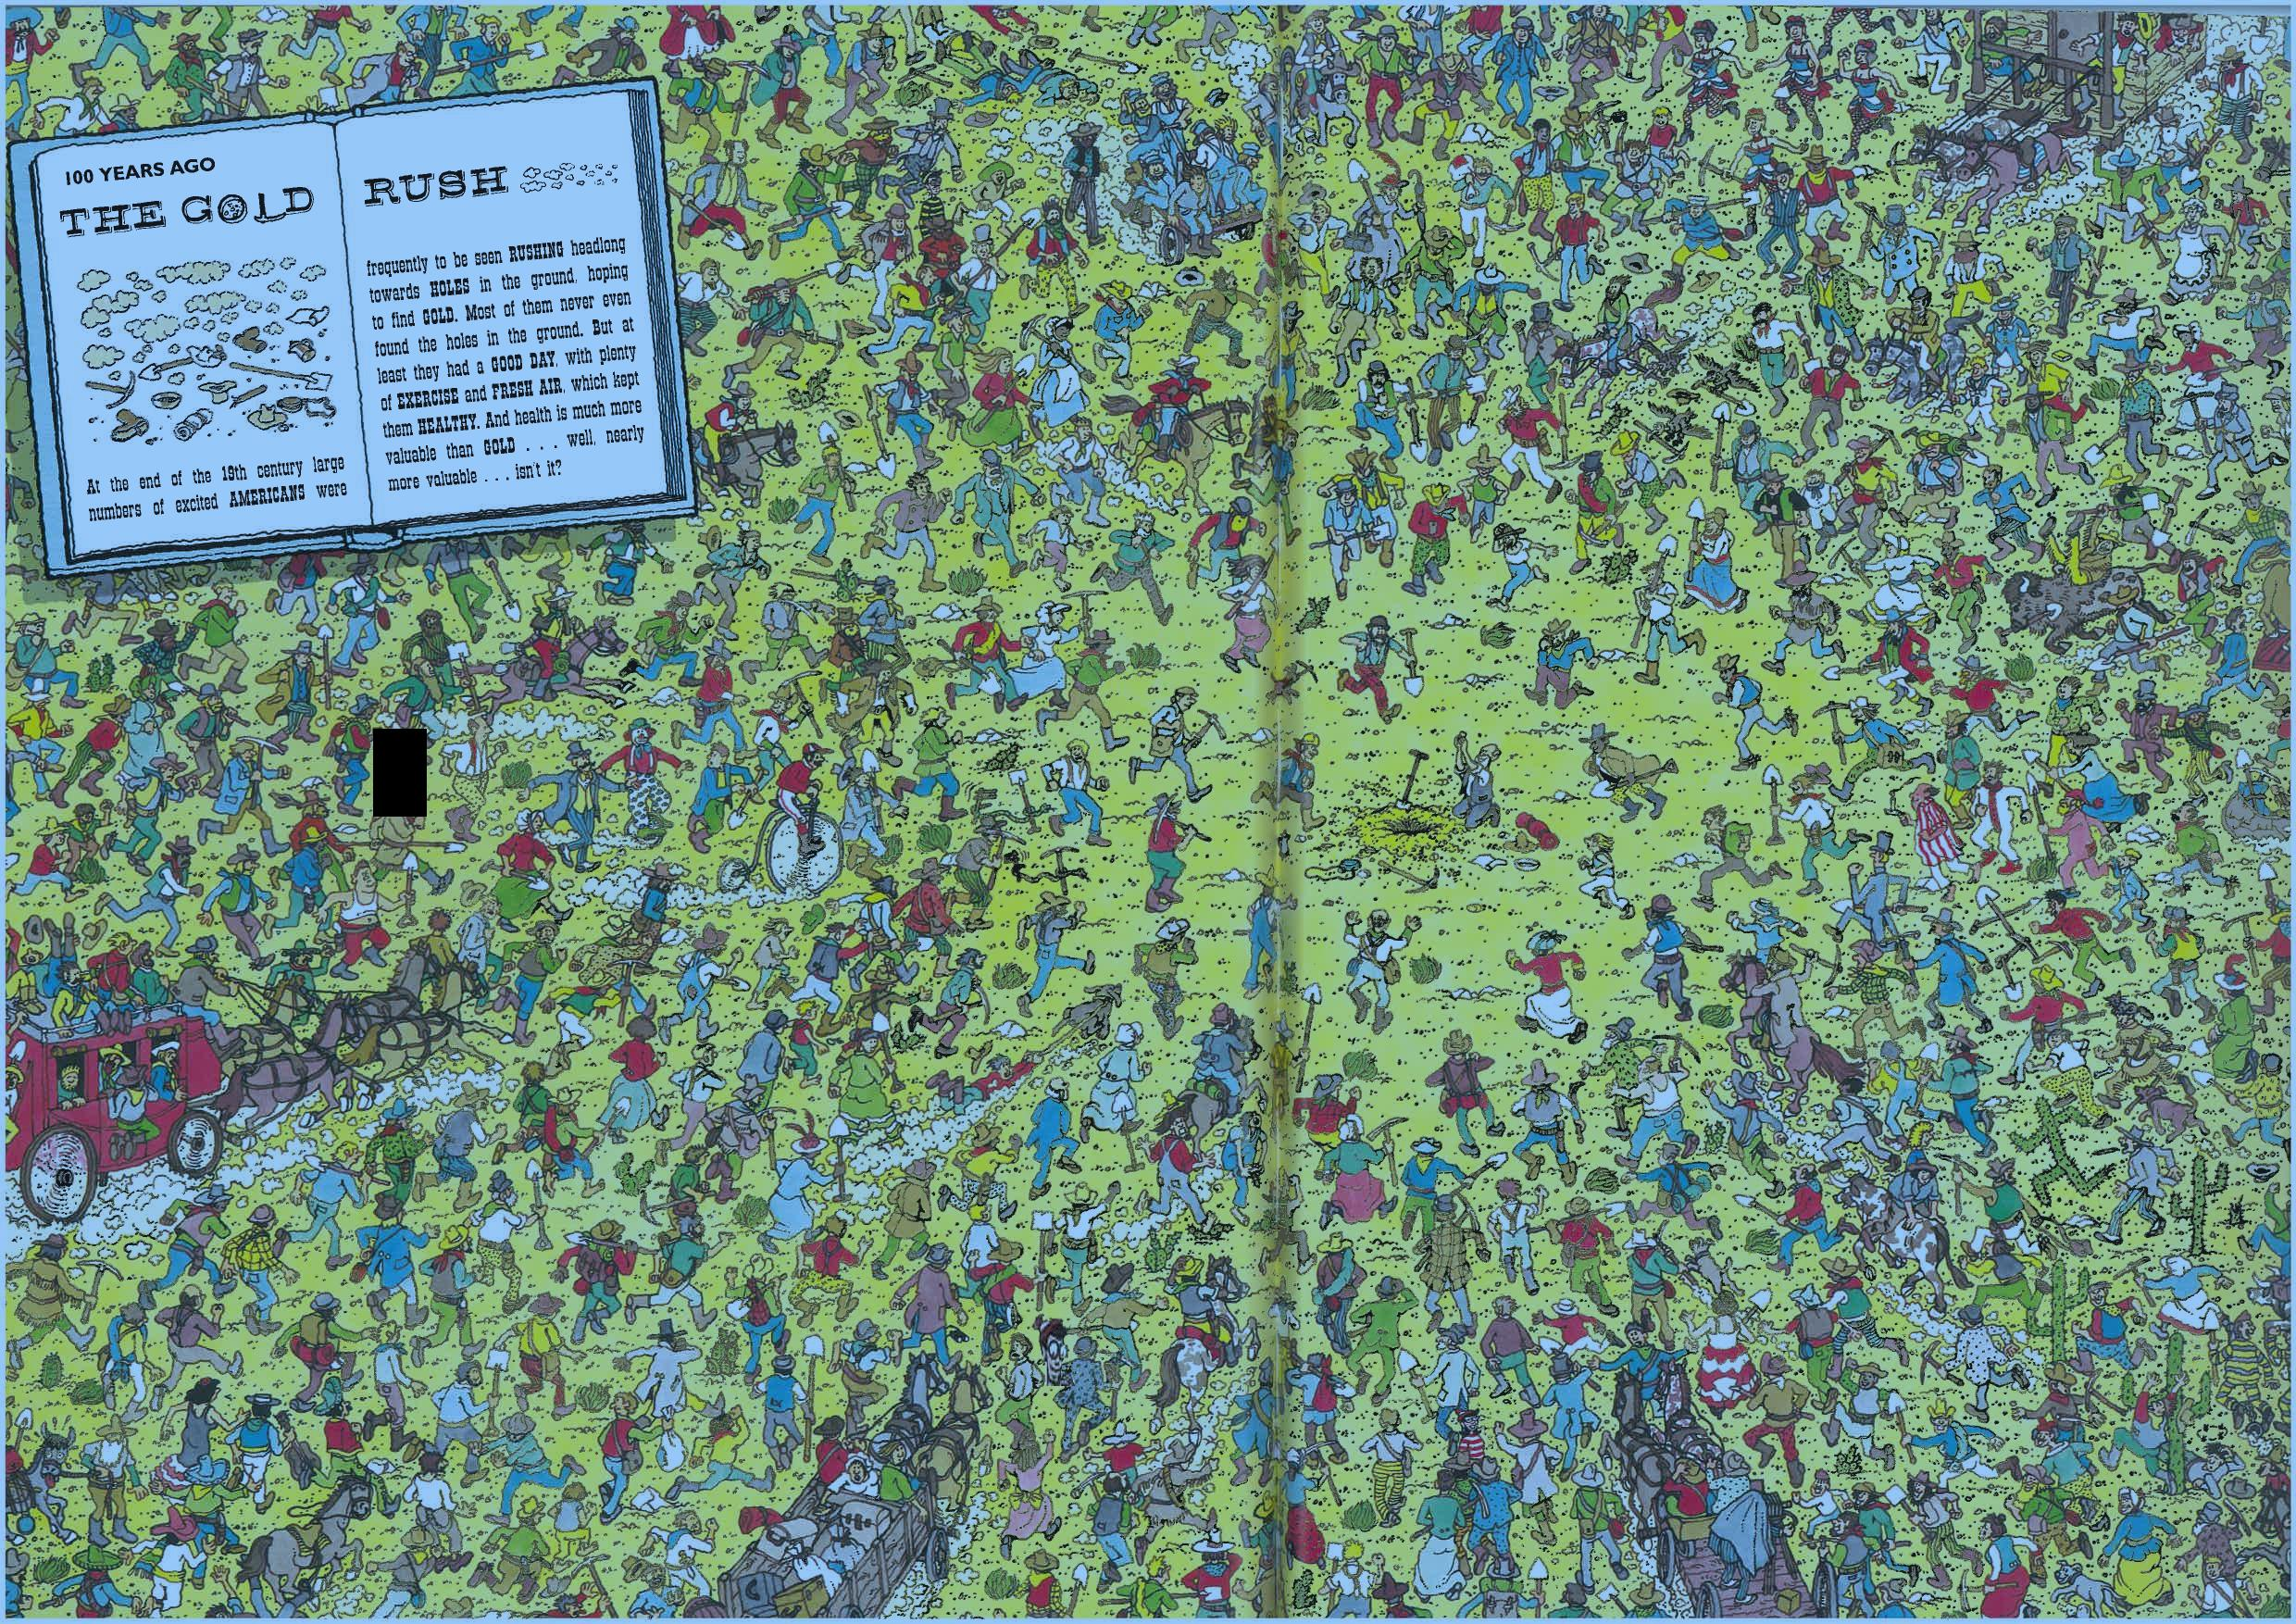waldos: (1029, 1299, 1084, 1387)
